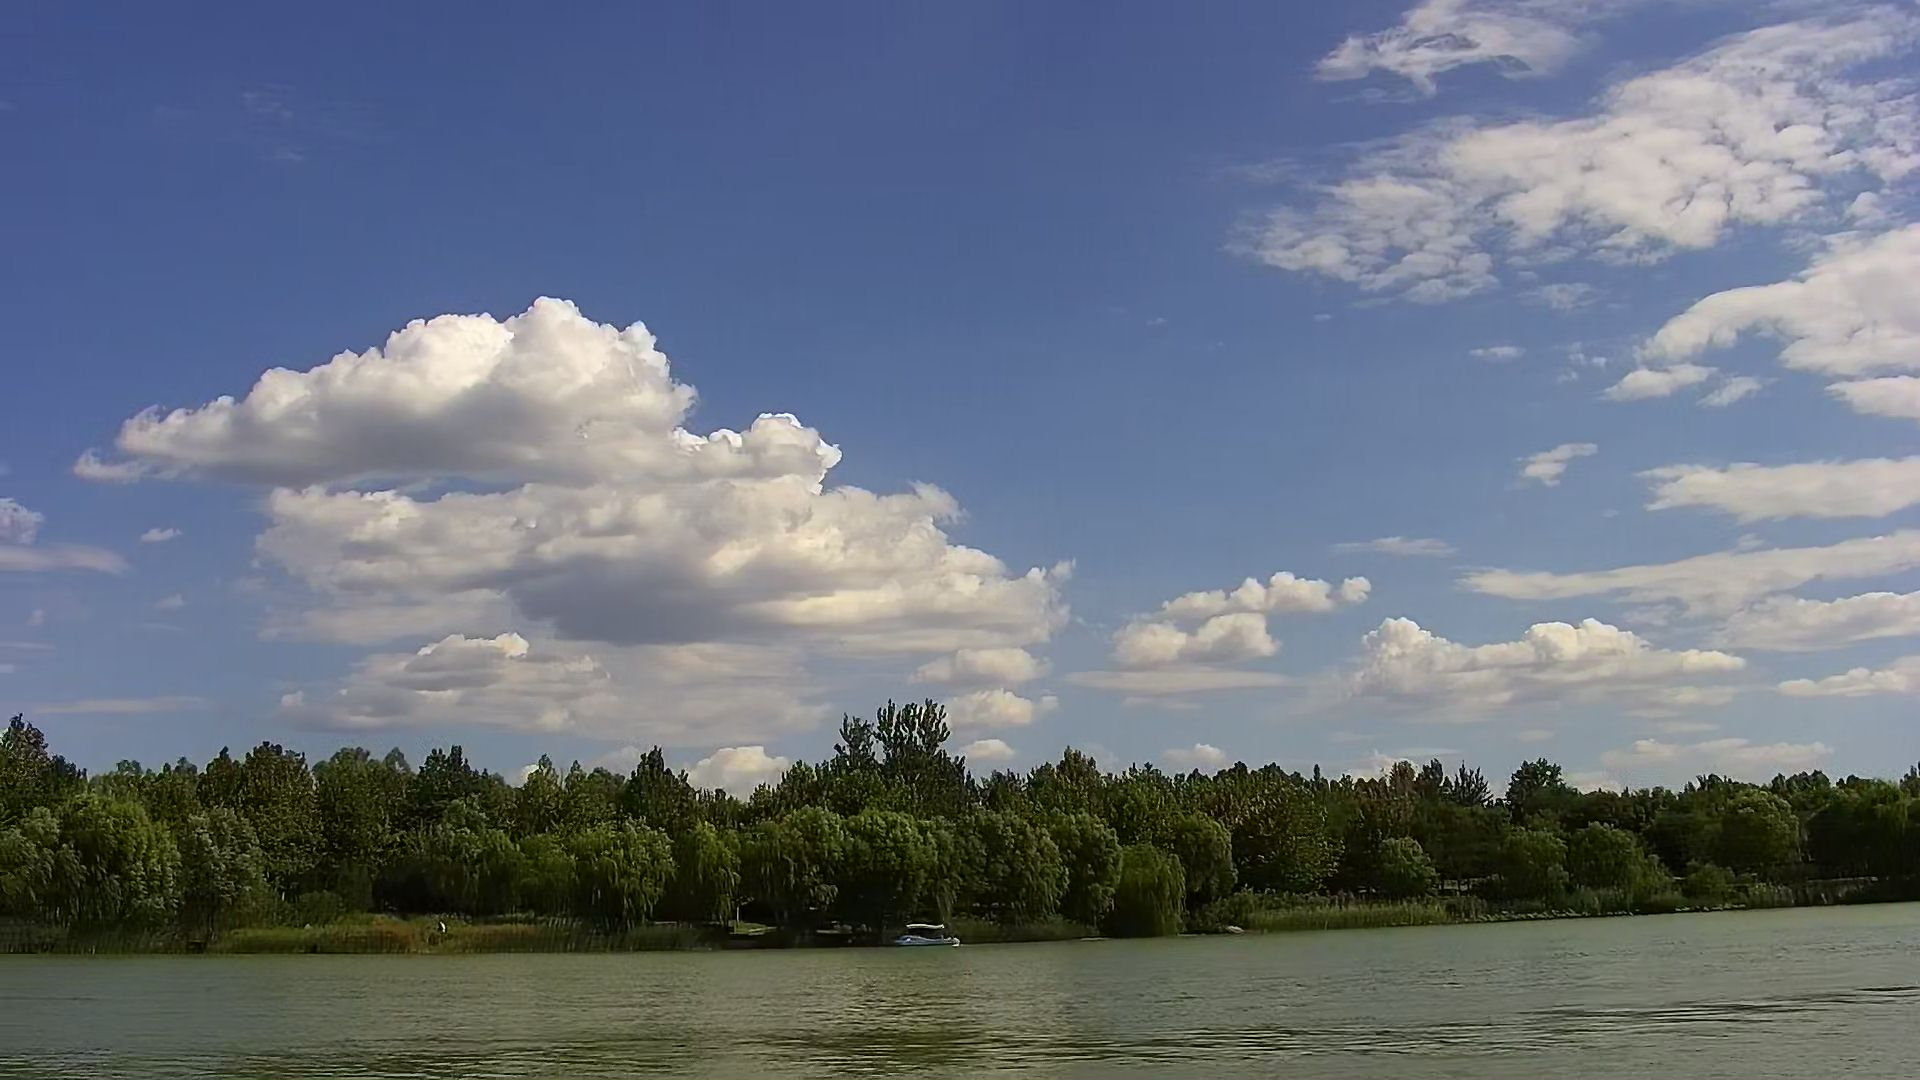boat: (887, 922, 967, 955)
